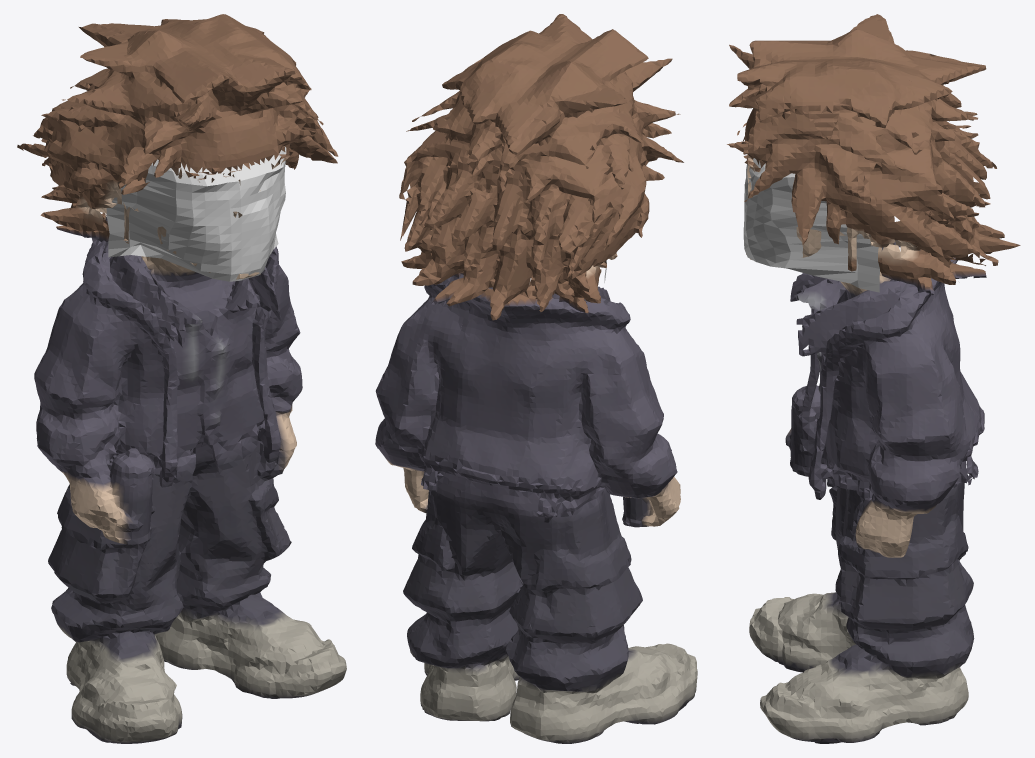
Rendered from danya.glb.
The picture shows the model from 3 angles, left to right: view 1: azimuth 30°, elevation 25°; view 2: azimuth 150°, elevation 25°; view 3: azimuth 270°, elevation 25°; orthographic projection. The views are drawn at different scales.
Parts seen in each view (by area): view 1: head, torso, legR, legL, armL, face, armR; view 2: head, torso, legL, legR, armL, armR; view 3: head, legR, armR, torso, face, legL.
Part boxes in pixels (x1=…): head: x1=17, y1=14, x2=338, y2=299; torso: x1=53, y1=217, x2=290, y2=529; legR: x1=158, y1=422, x2=346, y2=698; legL: x1=48, y1=442, x2=210, y2=743; armL: x1=34, y1=229, x2=153, y2=561; face: x1=106, y1=146, x2=286, y2=281; armR: x1=248, y1=248, x2=302, y2=527; head: x1=399, y1=14, x2=683, y2=333; torso: x1=391, y1=262, x2=652, y2=544; legL: x1=481, y1=487, x2=697, y2=743; legR: x1=403, y1=468, x2=522, y2=721; armL: x1=543, y1=300, x2=680, y2=602; armR: x1=375, y1=276, x2=453, y2=576; head: x1=727, y1=14, x2=1016, y2=331; legR: x1=760, y1=443, x2=977, y2=743; armR: x1=797, y1=280, x2=975, y2=586; torso: x1=746, y1=227, x2=1020, y2=525; face: x1=743, y1=158, x2=879, y2=292; legL: x1=749, y1=406, x2=965, y2=672.
Bounding box in the file's own units: 1.2 × 2.8 × 1.15.
